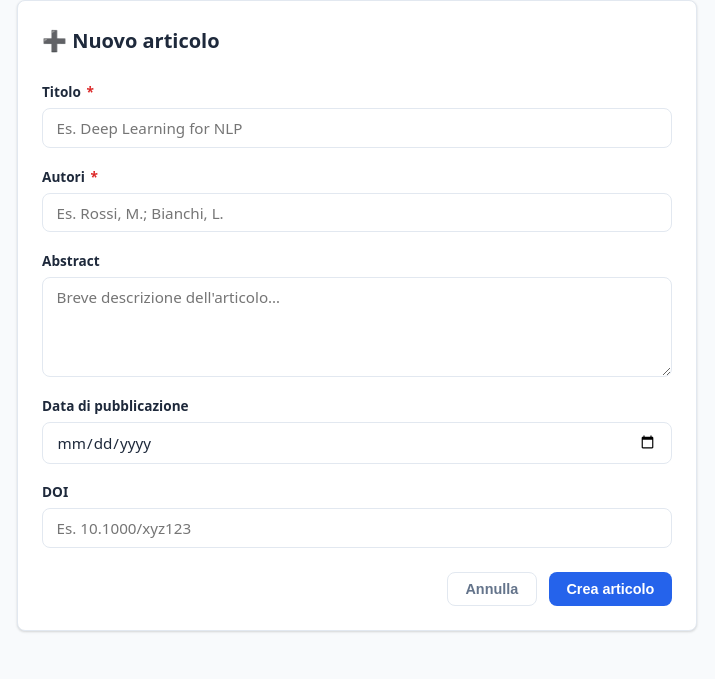
PaperForm – creation mode › 3. shows validation error when authors are empty on submit
In the field labelled "Titolo *": (357, 128) [42, 108, 672, 148], type "My Paper"
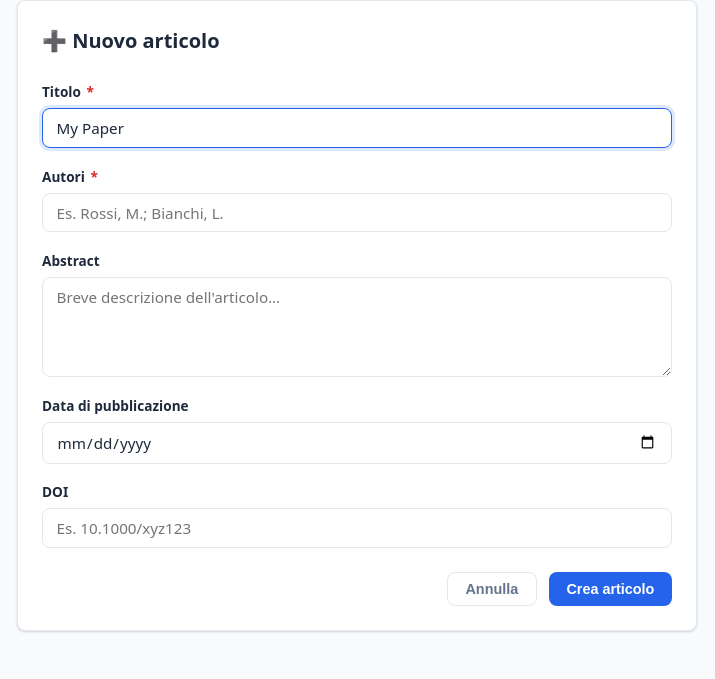
Click the button "Crea articolo": (610, 589) [549, 572, 672, 606]
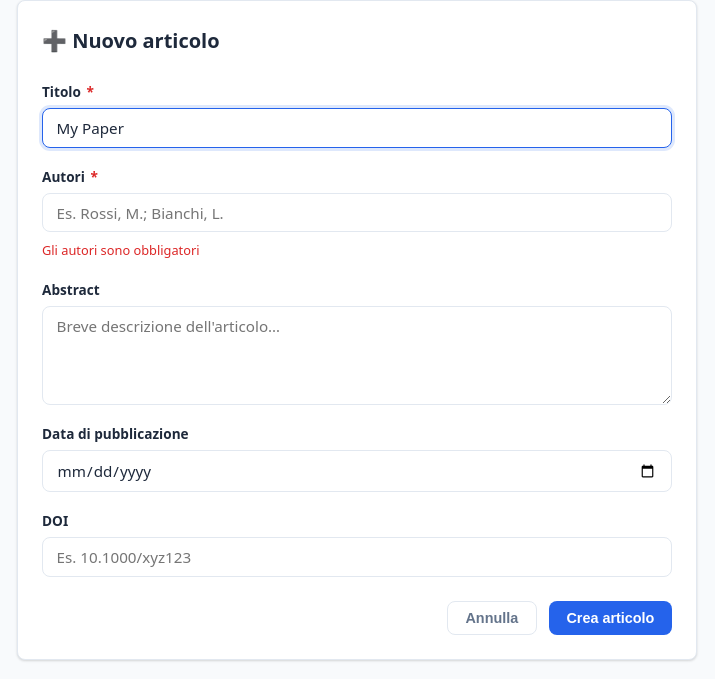
Expected: the text "Gli autori sono obbligatori" is shown, [42, 242, 200, 260]
